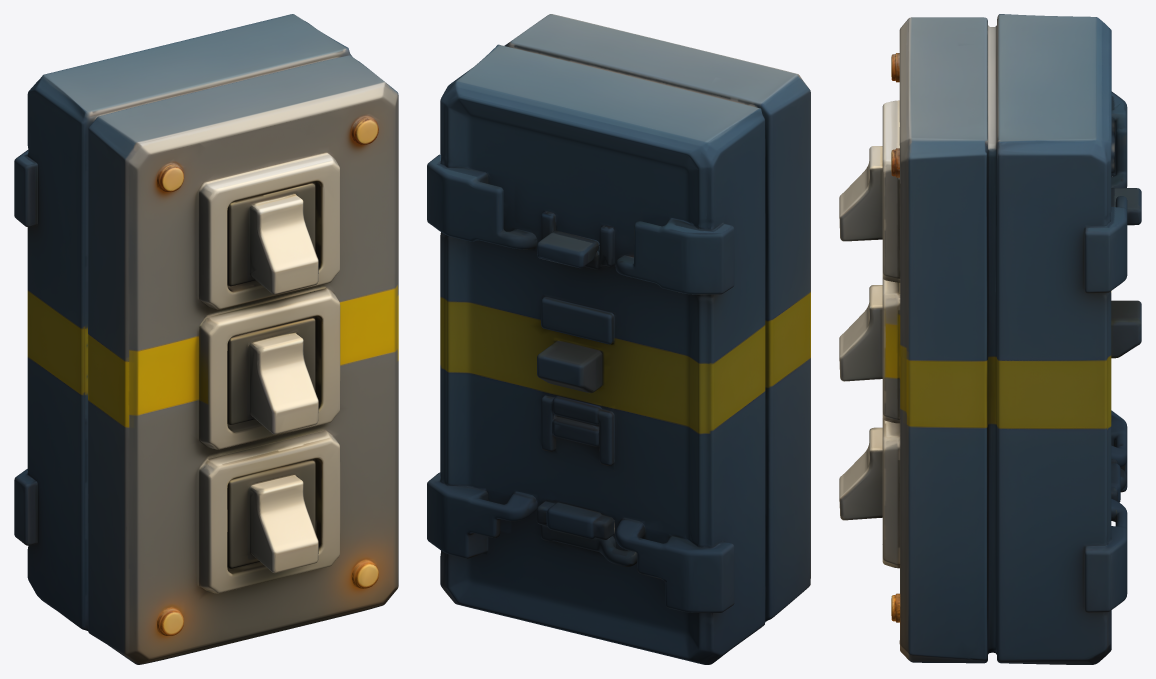
File: OH_ElectricalPanel.fbx
3 renders of one model, left to right at view 1: azimuth 30°, elevation 25°; view 2: azimuth 150°, elevation 25°; view 3: azimuth 270°, elevation 25°, orthographic.
Visible parts, largest first — view 1: node_0; view 2: node_0; view 3: node_0.
Boxes of the visible parts, left/top/right/bottom form: node_0: left=14, top=14, right=398, bottom=664; node_0: left=427, top=14, right=810, bottom=664; node_0: left=839, top=14, right=1141, bottom=664.
Size of the model in its own units: 60.51 by 102 by 53.22.
1 material, 1 textured.
